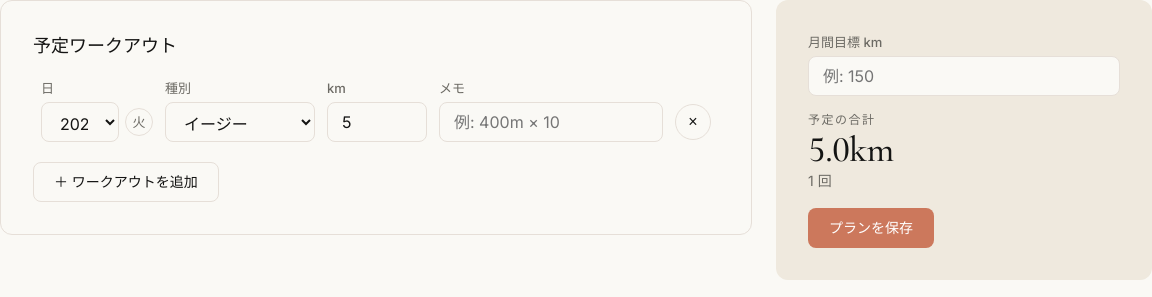
Test case: PlanEditor › does not save a workout dated outside the month
Click the button "プランを保存".
click(871, 228)  # box x1=808 y1=208 x2=934 y2=248
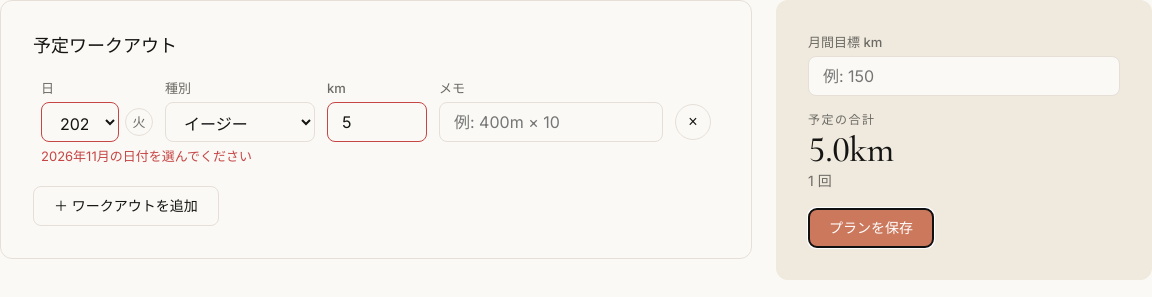
Expected: the text "2026年11月の日付を選んでください" is shown, x1=41 y1=148 x2=252 y2=164
